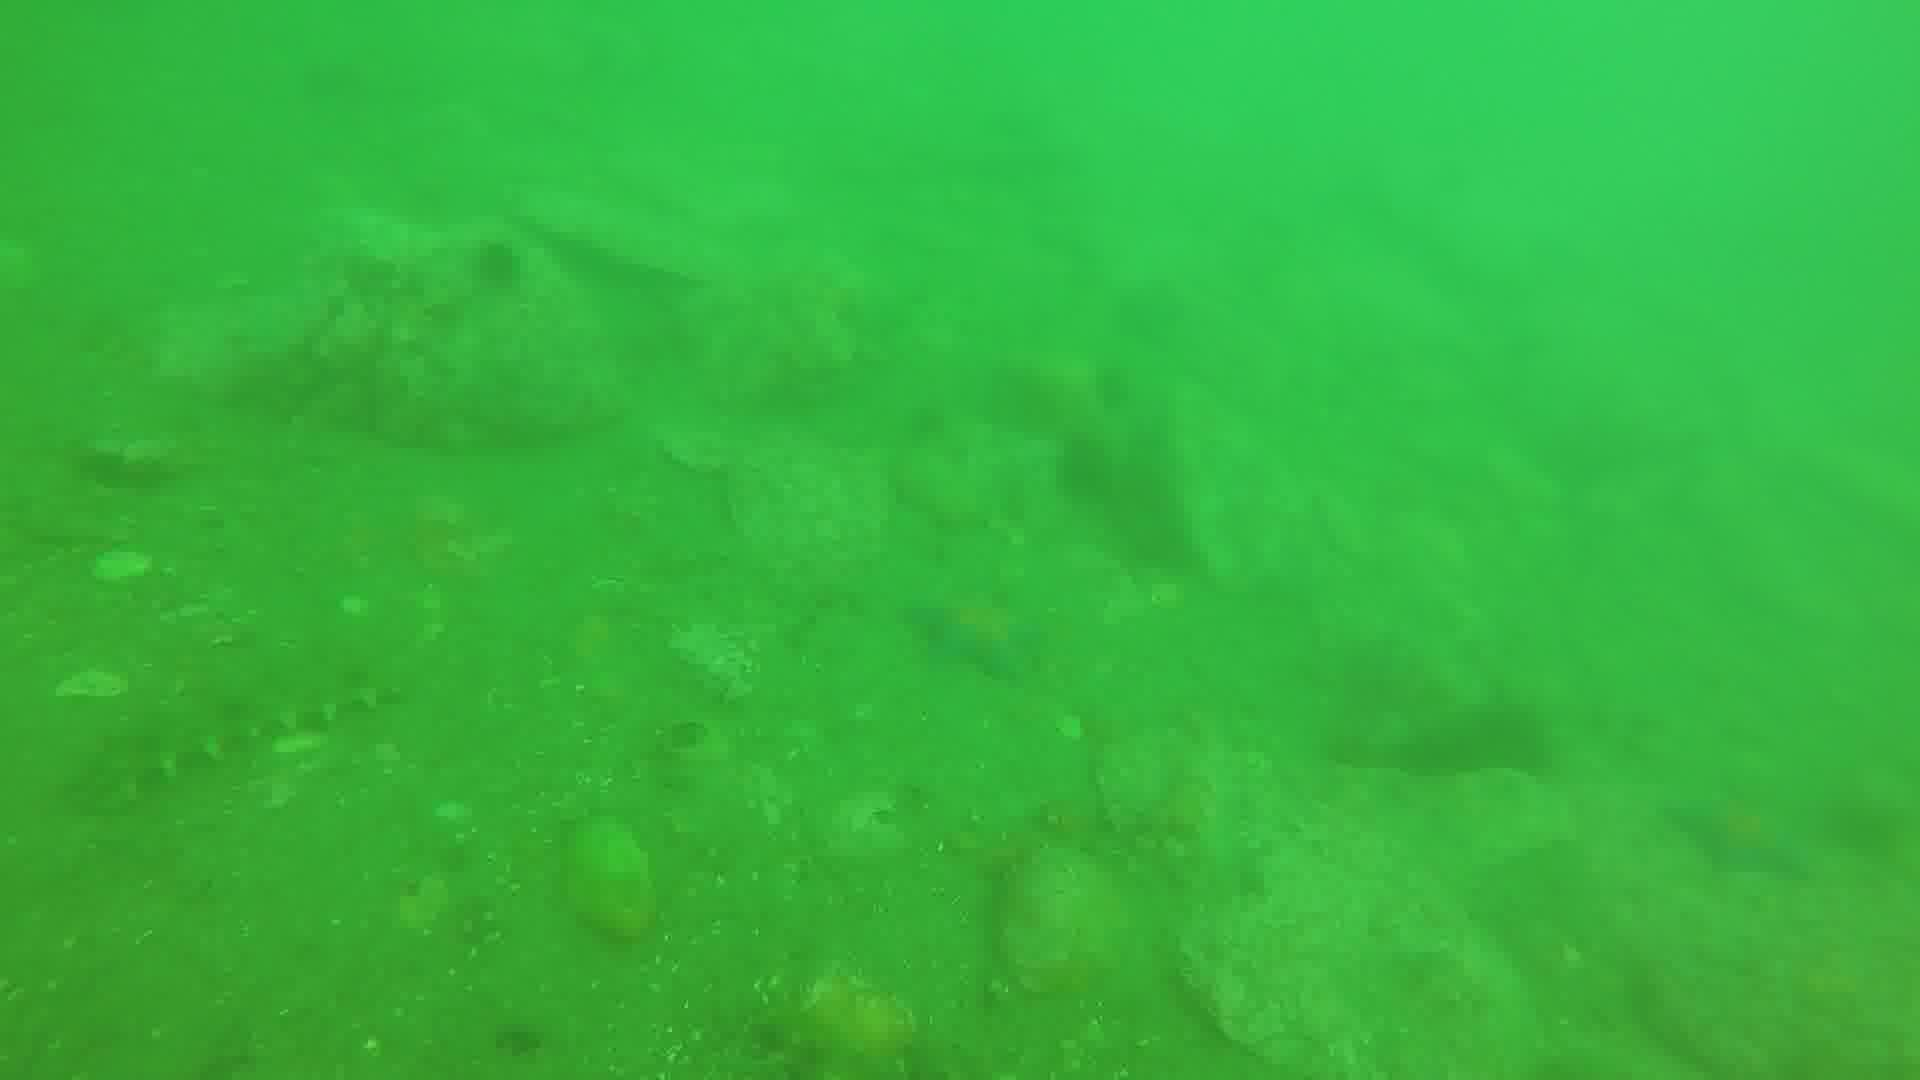echinus: (1456, 687, 1549, 793)
holothurian: (88, 644, 407, 793)
starfish: (1669, 781, 1818, 880), (905, 578, 1048, 678)
